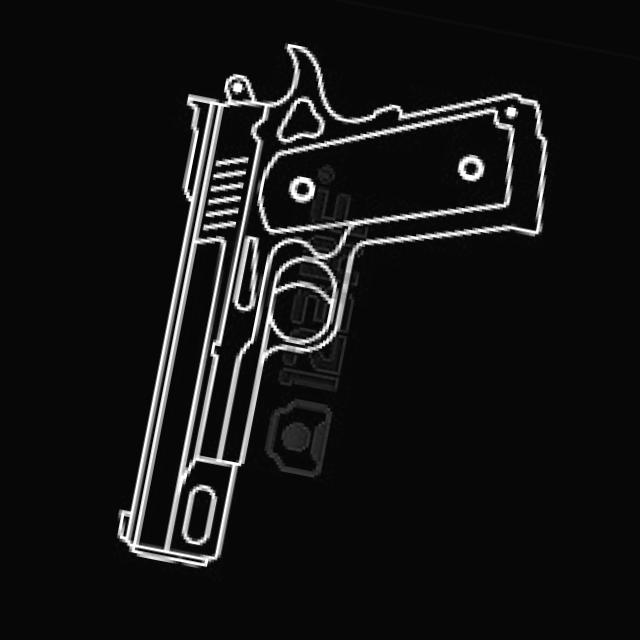handgun: (100, 29, 570, 617)
